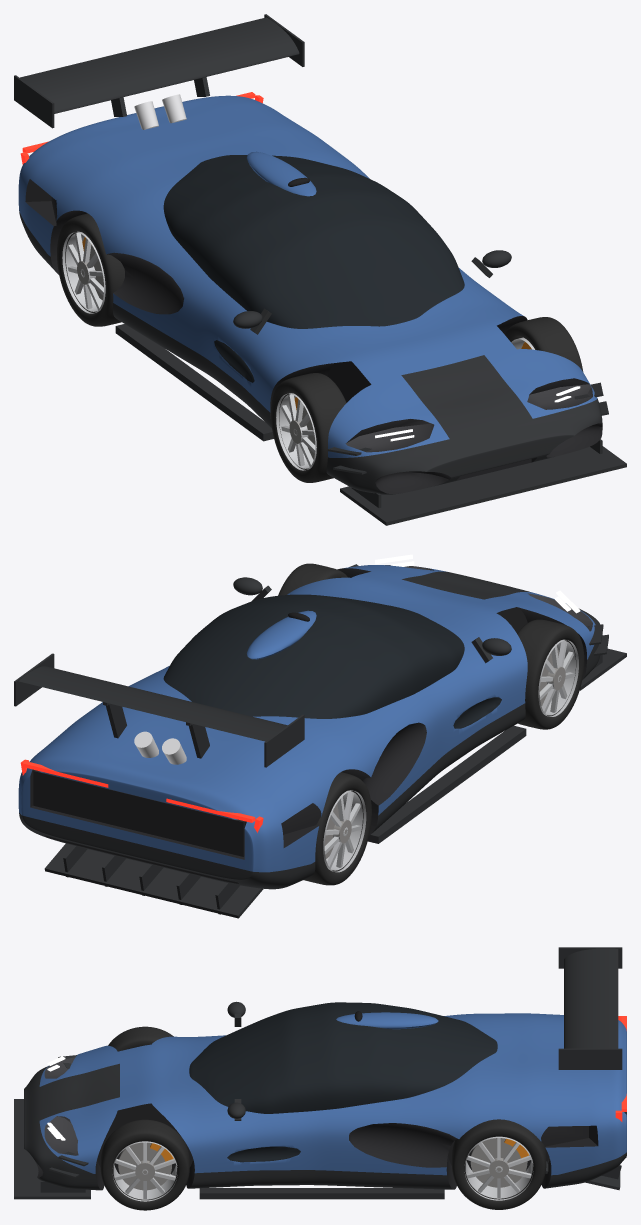
The model's file is supercar.glb.
3 views of the same model, one above another, from view 1: azimuth 30°, elevation 25°; view 2: azimuth 150°, elevation 25°; view 3: azimuth 270°, elevation 25° (orthographic). The views are drawn at different scales.
Parts seen in each view (by area): view 1: Body, Cabin, RearWing, Splitter, Wheel_FL, Wheel_RL, SideSkirts, Wheel_FR, WingSupports, RoofScoop, Mirrors, Exhausts; view 2: Body, Cabin, RearGrille, Diffuser, Wheel_FL, RearWing, Wheel_RL, SideSkirts, WingSupports, RoofScoop, Mirrors, Taillights (+4 smaller); view 3: Body, Cabin, Wheel_RR, Wheel_FR, RearWing, SideSkirts, Splitter, WingSupports, RoofScoop, Wheel_FL, Mirrors, Diffuser (+1 smaller).
Boxes of the visible parts, left/top/right/bottom form: Body: left=18, top=95, right=602, bottom=494; Cabin: left=163, top=155, right=464, bottom=328; RearWing: left=20, top=17, right=299, bottom=113; Splitter: left=340, top=439, right=626, bottom=525; Wheel_FL: left=271, top=373, right=346, bottom=482; Wheel_RL: left=57, top=213, right=124, bottom=326; SideSkirts: left=115, top=324, right=273, bottom=441; Wheel_FR: left=505, top=317, right=583, bottom=371; WingSupports: left=14, top=14, right=304, bottom=128; RoofScoop: left=247, top=151, right=316, bottom=196; Mirrors: left=233, top=250, right=511, bottom=334; Exhausts: left=134, top=94, right=186, bottom=129; Body: left=18, top=565, right=602, bottom=889; Cabin: left=163, top=594, right=464, bottom=718; RearGrille: left=33, top=770, right=245, bottom=856; Diffuser: left=44, top=843, right=263, bottom=918; Wheel_FL: left=517, top=619, right=584, bottom=729; RearWing: left=18, top=666, right=287, bottom=741; Wheel_RL: left=304, top=772, right=371, bottom=885; SideSkirts: left=368, top=725, right=526, bottom=843; WingSupports: left=14, top=653, right=304, bottom=767; RoofScoop: left=246, top=610, right=316, bottom=659; Mirrors: left=233, top=577, right=511, bottom=663; Taillights: left=20, top=759, right=263, bottom=832; Body: left=24, top=1013, right=626, bottom=1190; Cabin: left=189, top=1002, right=497, bottom=1113; Wheel_RR: left=451, top=1119, right=546, bottom=1209; Wheel_FR: left=100, top=1119, right=189, bottom=1210; RearWing: left=564, top=948, right=618, bottom=1048; SideSkirts: left=199, top=1188, right=444, bottom=1199; Splitter: left=14, top=1099, right=90, bottom=1199; WingSupports: left=558, top=947, right=622, bottom=1069; RoofScoop: left=336, top=1012, right=438, bottom=1029; Wheel_FL: left=108, top=1026, right=173, bottom=1051; Mirrors: left=227, top=1001, right=245, bottom=1120; Diffuser: left=545, top=1156, right=621, bottom=1190.
Size of the model in its own units: 2 by 1.34 by 4.62.
